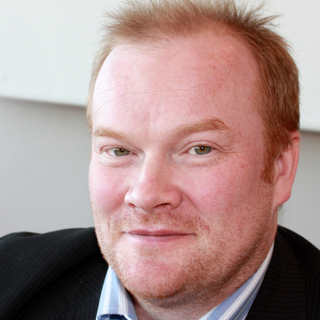eye: (173, 135, 225, 163), (97, 140, 140, 163)
